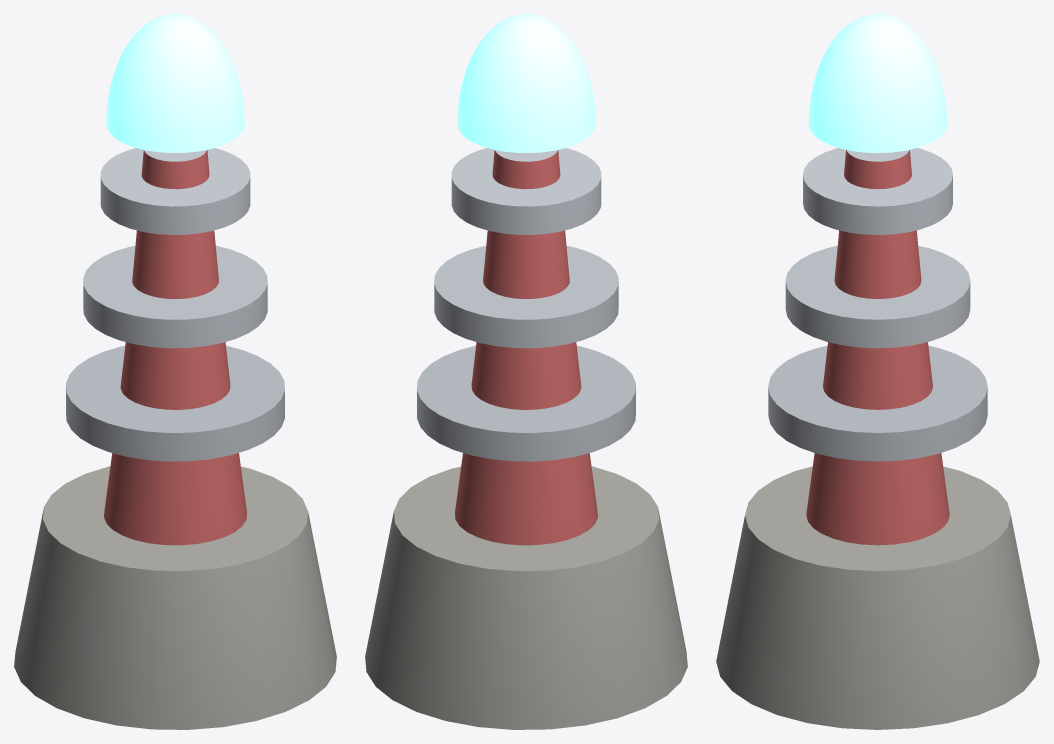
The model's file is tesla.glb.
3 renders of one model, left to right at view 1: azimuth 30°, elevation 25°; view 2: azimuth 150°, elevation 25°; view 3: azimuth 270°, elevation 25°, orthographic.
Visible parts, largest first — view 1: Hull; view 2: Hull; view 3: Hull.
Boxes of the visible parts, x1,y1,x2,y2 form: Hull: (14, 14, 336, 729); Hull: (365, 14, 687, 729); Hull: (716, 14, 1039, 729).
Size of the model in its own units: 1.01 by 2.21 by 1.01.
